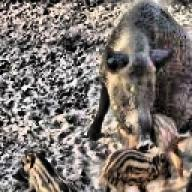boar: (87, 0, 192, 150), (20, 150, 82, 192)
